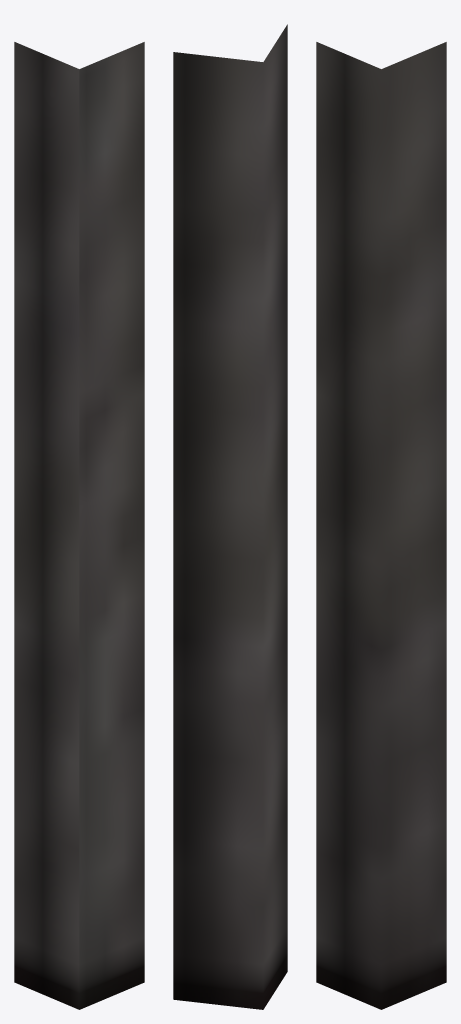
3 renders of one model, left to right at view 1: azimuth 90°, elevation 25°; view 2: azimuth 210°, elevation 25°; view 3: azimuth 270°, elevation 25°, orthographic.
Parts seen in each view (by area): view 1: body0_model0_lod0_mesh0; view 2: body0_model0_lod0_mesh0; view 3: body0_model0_lod0_mesh0.
Part boxes in pixels (<box>): body0_model0_lod0_mesh0: <box>14,42,144,1009</box>; body0_model0_lod0_mesh0: <box>173,24,287,1009</box>; body0_model0_lod0_mesh0: <box>316,42,446,1009</box>.
Bounding box in the file's own units: 4.03 × 32 × 4.03.
1 material, 1 textured.
